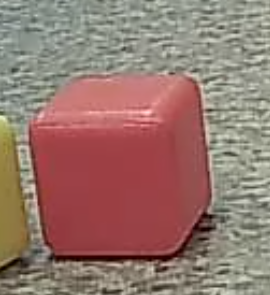orange_cube: (23, 59, 216, 263)
